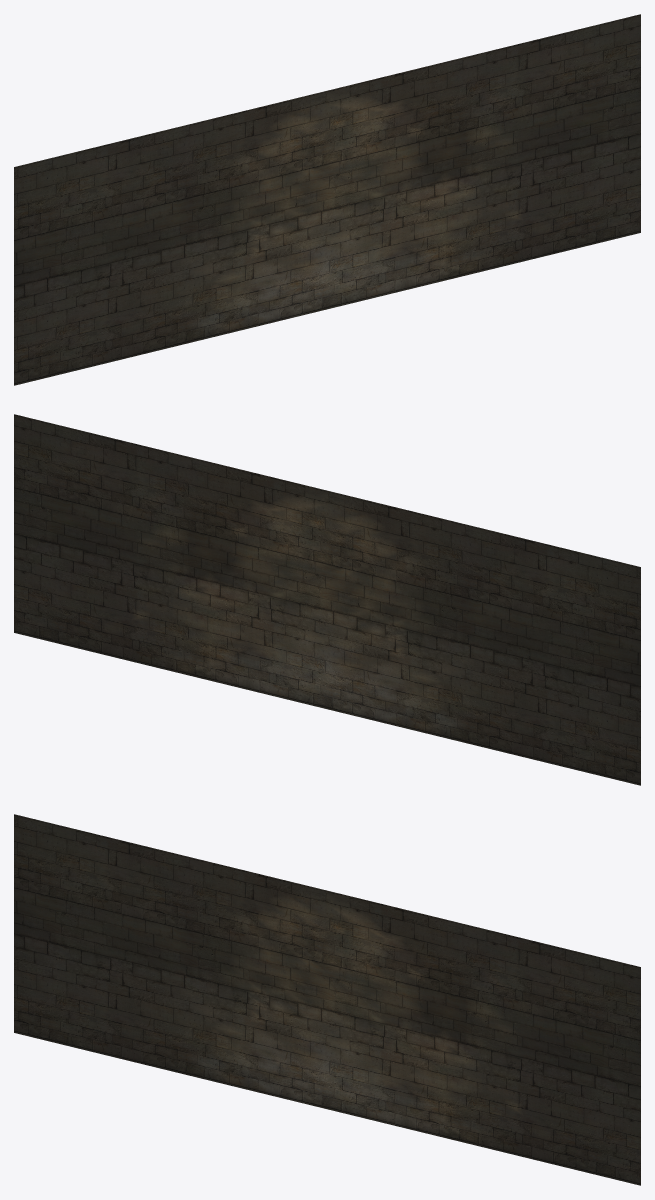
Rendered from sponza_atrium_backwall.glb.
3 views of the same model, one above another, from view 1: azimuth 30°, elevation 25°; view 2: azimuth 150°, elevation 25°; view 3: azimuth 330°, elevation 25° (orthographic).
Parts seen in each view (by area): view 1: bricks; view 2: bricks; view 3: bricks.
Boxes of the visible parts, x1,y1,x2,y2 form: bricks: [14, 14, 640, 385]; bricks: [14, 414, 640, 785]; bricks: [14, 814, 640, 1185].
Bounding box in the file's own units: 12.18 × 4.06 × 0.
1 material, 1 textured.
